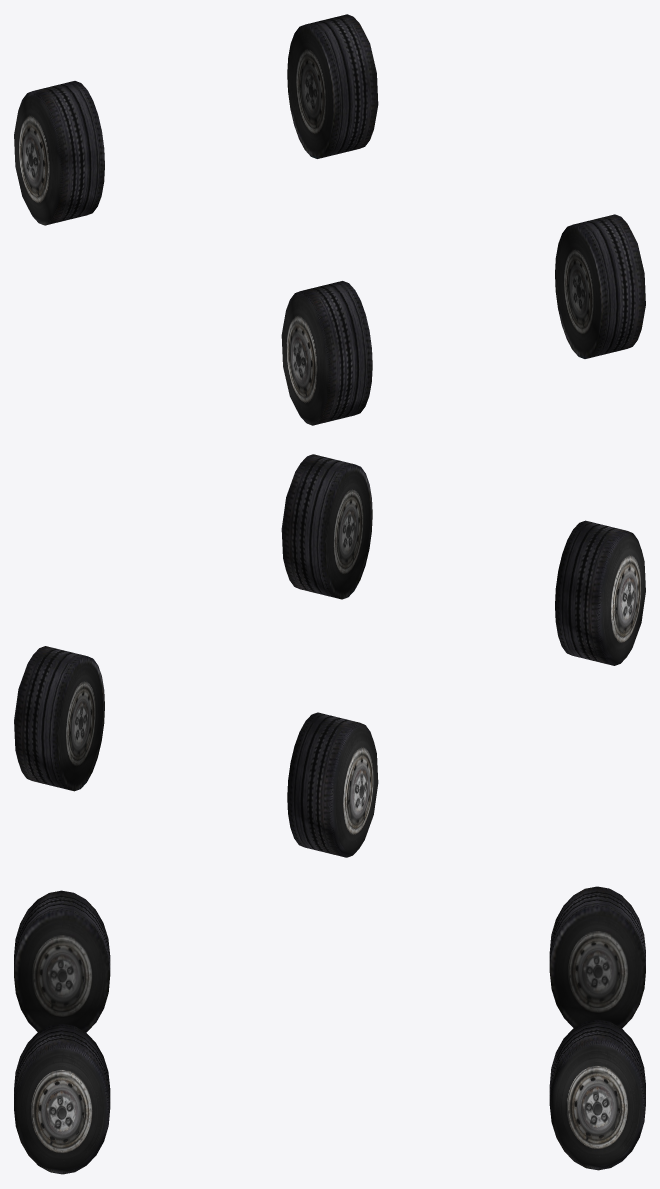
Rendered from wheel.obj.
The picture shows the model from 3 angles, top to bottom: view 1: azimuth 30°, elevation 25°; view 2: azimuth 150°, elevation 25°; view 3: azimuth 270°, elevation 25°; orthographic projection.
Visible parts, largest first — view 1: Van.010, Van.011, Van.009, Van.012; view 2: Van.010, Van.011, Van.009, Van.012; view 3: Van.010, Van.009, Van.011, Van.012.
Part boxes in pixels (bbox=[...]): Van.010: bbox=[555, 214, 645, 358]; Van.011: bbox=[14, 81, 104, 225]; Van.009: bbox=[287, 14, 378, 158]; Van.012: bbox=[281, 281, 372, 425]; Van.010: bbox=[281, 454, 372, 599]; Van.011: bbox=[287, 712, 378, 857]; Van.009: bbox=[14, 646, 104, 791]; Van.012: bbox=[555, 520, 645, 665]; Van.010: bbox=[14, 1023, 110, 1174]; Van.009: bbox=[549, 1019, 645, 1170]; Van.011: bbox=[549, 886, 645, 1028]; Van.012: bbox=[14, 890, 110, 1032].
Size of the model in its own units: 7.19 by 2.78 by 11.84.
1 material, 1 textured.
